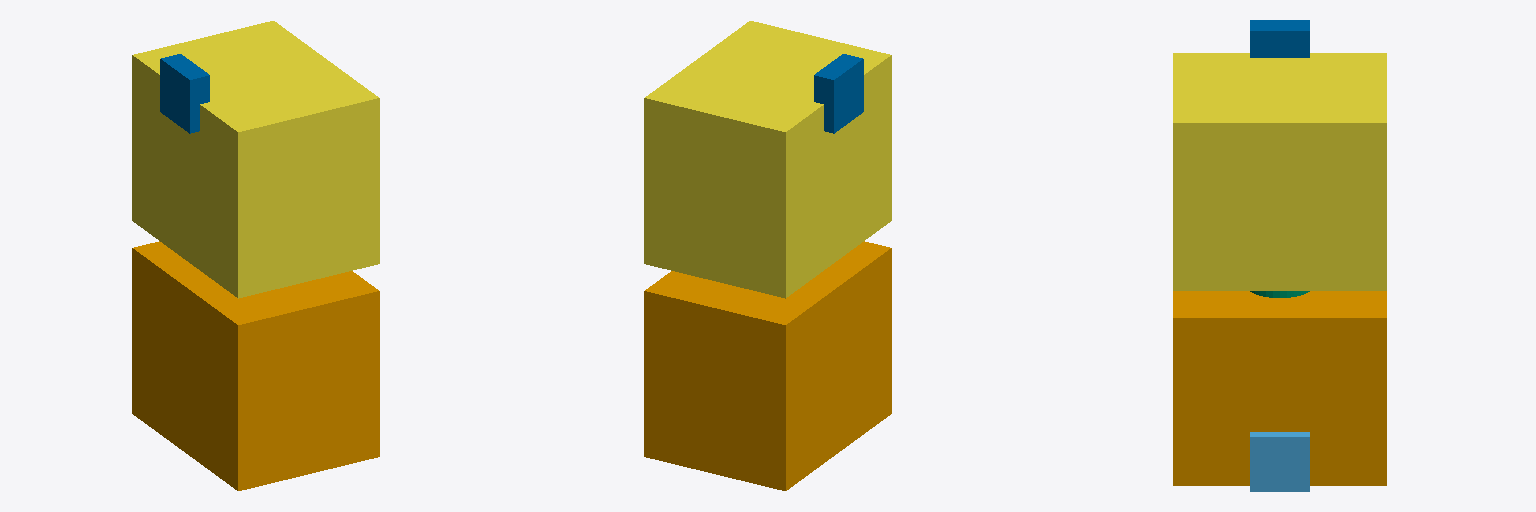
URDF robot description (icd_collective_actuator):
<?xml version="1.0"?>
<!-- ICD Collective Robotic Construction Actuator
     Single-axis rotational joint with two opposite-facing grippers for timber strut assembly.
     Based on Samuel Leder's research at ICD/IntCDC, University of Stuttgart.
     
     Dimensions:
     - Actuator body (closed): 138 (d) × 179 (w) × 309.5 (h) mm
     - Timber struts: 50×50 mm cross-section
     - Rotational axis: unlimited (continuous)
     - Reference: Leder et al., "Leveraging Building Material as Part of the In-Plane Robotic 
       Kinematic System for Collective Construction" (2022)
-->
<robot name="icd_collective_actuator">
  
  <!-- Base link: lower gripper body -->
  <link name="base_link">
    <visual>
      <origin xyz="0 0 0.0775" rpy="0 0 0"/>
      <geometry>
        <box size="0.138 0.179 0.155"/>
      </geometry>
    </visual>
    <collision>
      <origin xyz="0 0 0.0775" rpy="0 0 0"/>
      <geometry>
        <box size="0.138 0.179 0.155"/>
      </geometry>
    </collision>
  </link>

  <!-- Lower gripper (simplified as fixed paddles) -->
  <link name="lower_gripper">
    <visual>
      <origin xyz="0.069 0 0" rpy="0 0 0"/>
      <geometry>
        <box size="0.020 0.050 0.050"/>
      </geometry>
    </visual>
    <collision>
      <origin xyz="0.069 0 0" rpy="0 0 0"/>
      <geometry>
        <box size="0.020 0.050 0.050"/>
      </geometry>
    </collision>
  </link>

  <joint name="lower_gripper_mount" type="fixed">
    <parent link="base_link"/>
    <child link="lower_gripper"/>
    <origin xyz="0 0 0.025" rpy="0 0 0"/>
  </joint>

  <!-- Rotational axis link (main body rotation) -->
  <link name="rotation_link">
    <visual>
      <origin xyz="0 0 0" rpy="0 0 0"/>
      <geometry>
        <cylinder length="0.050" radius="0.030"/>
      </geometry>
    </visual>
    <collision>
      <origin xyz="0 0 0" rpy="0 0 0"/>
      <geometry>
        <cylinder length="0.050" radius="0.030"/>
      </geometry>
    </collision>
  </link>

  <!-- Main rotation joint: unlimited continuous rotation -->
  <joint name="rotation_joint" type="continuous">
    <parent link="base_link"/>
    <child link="rotation_link"/>
    <origin xyz="0 0 0.155" rpy="0 0 0"/>
    <axis xyz="0 0 1"/>
  </joint>

  <!-- Upper gripper body -->
  <link name="upper_body">
    <visual>
      <origin xyz="0 0 0.0775" rpy="0 0 0"/>
      <geometry>
        <box size="0.138 0.179 0.155"/>
      </geometry>
    </visual>
    <collision>
      <origin xyz="0 0 0.0775" rpy="0 0 0"/>
      <geometry>
        <box size="0.138 0.179 0.155"/>
      </geometry>
    </collision>
  </link>

  <joint name="upper_body_mount" type="fixed">
    <parent link="rotation_link"/>
    <child link="upper_body"/>
    <origin xyz="0 0 0.025" rpy="0 0 0"/>
  </joint>

  <!-- Upper gripper (simplified as fixed paddles) -->
  <link name="upper_gripper">
    <visual>
      <origin xyz="-0.069 0 0" rpy="0 0 0"/>
      <geometry>
        <box size="0.020 0.050 0.050"/>
      </geometry>
    </visual>
    <collision>
      <origin xyz="-0.069 0 0" rpy="0 0 0"/>
      <geometry>
        <box size="0.020 0.050 0.050"/>
      </geometry>
    </collision>
  </link>

  <joint name="upper_gripper_mount" type="fixed">
    <parent link="upper_body"/>
    <child link="upper_gripper"/>
    <origin xyz="0 0 0.155" rpy="0 0 0"/>
  </joint>

  <!-- TCP: centered at upper gripper contact point -->
  <link name="tool0"/>

  <joint name="tool0_joint" type="fixed">
    <parent link="upper_gripper"/>
    <child link="tool0"/>
    <origin xyz="-0.069 0 0" rpy="0 0 0"/>
  </joint>

</robot>

--- Facts derived from the render (not from the file) ---
3 views of the same robot in one strip: view 1: azimuth 30°, elevation 25°; view 2: azimuth 150°, elevation 25°; view 3: azimuth 270°, elevation 25° (orthographic).
Robot: icd_collective_actuator — 6 links, 5 joints (1 continuous, 4 fixed); root link base_link; default pose: every joint at zero.
Links seen in each view (by area): view 1: upper_body, base_link, upper_gripper; view 2: upper_body, base_link, upper_gripper; view 3: upper_body, base_link, lower_gripper, upper_gripper.
Link boxes in pixels (bbox=[...]): upper_body: bbox=[132, 21, 379, 298]; base_link: bbox=[132, 241, 379, 490]; upper_gripper: bbox=[160, 54, 209, 133]; upper_body: bbox=[644, 21, 891, 298]; base_link: bbox=[644, 241, 891, 490]; upper_gripper: bbox=[814, 54, 863, 133]; upper_body: bbox=[1173, 53, 1386, 290]; base_link: bbox=[1173, 291, 1386, 485]; lower_gripper: bbox=[1250, 432, 1309, 491]; upper_gripper: bbox=[1250, 20, 1309, 57].
Bounding box of the posed robot: 0.158 × 0.179 × 0.36 m (x, y, z).
Geometry: primitives only (box / cylinder / sphere), no mesh files.
